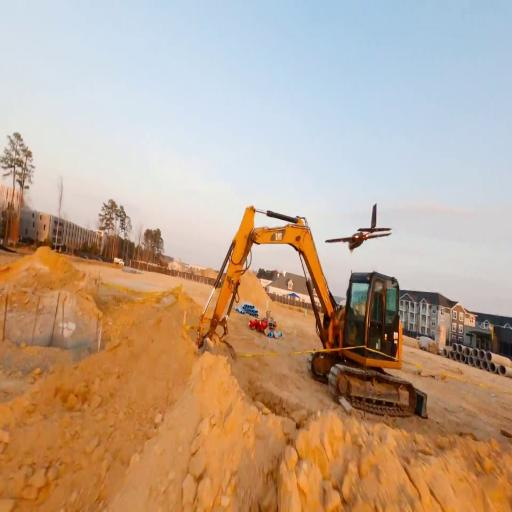uav: (324, 202, 394, 258)
